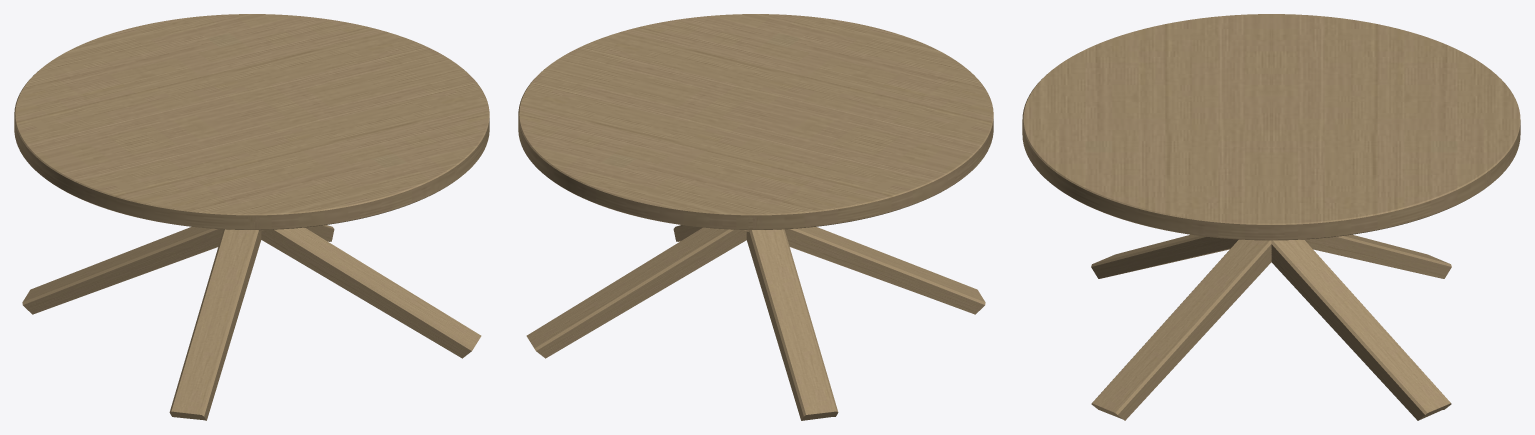
The model's file is round-ash.glb.
The picture shows the model from 3 angles, left to right: view 1: azimuth 30°, elevation 25°; view 2: azimuth 150°, elevation 25°; view 3: azimuth 270°, elevation 25°; orthographic projection. The views are drawn at different scales.
Parts seen in each view (by area): view 1: Wood_Round, Base_Round; view 2: Wood_Round, Base_Round; view 3: Wood_Round, Base_Round.
Boxes of the visible parts, <box> form: Wood_Round: <box>14,14,489,229</box>; Base_Round: <box>22,225,481,420</box>; Wood_Round: <box>518,14,993,229</box>; Base_Round: <box>526,225,985,420</box>; Wood_Round: <box>1022,14,1520,240</box>; Base_Round: <box>1091,234,1451,420</box>.
Size of the model in its own units: 1.52 by 0.762 by 1.52.
Materials: 1 (1 with a texture image).
